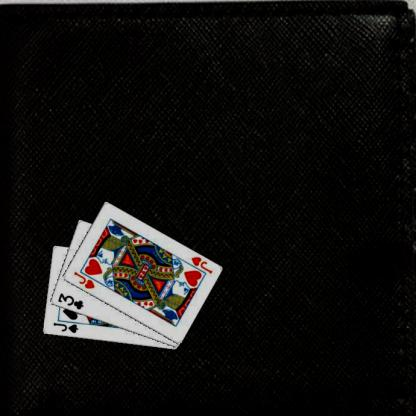3C: (55, 290, 84, 310)
JH: (71, 269, 96, 290), (189, 254, 213, 275)
JS: (51, 320, 79, 334)
